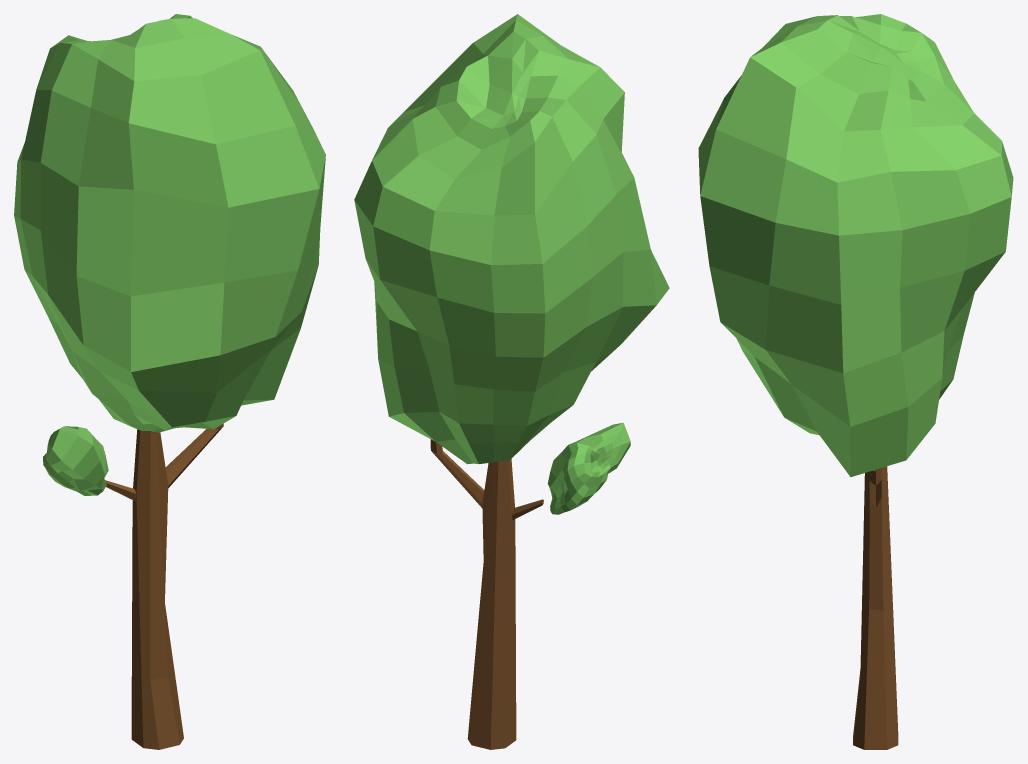
File: Tree 8.fbx
3 views of the same model, side by side, from view 1: azimuth 30°, elevation 25°; view 2: azimuth 150°, elevation 25°; view 3: azimuth 270°, elevation 25° (orthographic). The views are drawn at different scales.
Parts seen in each view (by area): view 1: Sphere.022; view 2: Sphere.022; view 3: Sphere.022.
Part boxes in pixels (box(x1,y1,x2,y2)): Sphere.022: box(14, 14, 325, 749); Sphere.022: box(354, 14, 669, 749); Sphere.022: box(698, 14, 1013, 749).
Bounding box in the file's own units: 485 × 1256 × 502.
